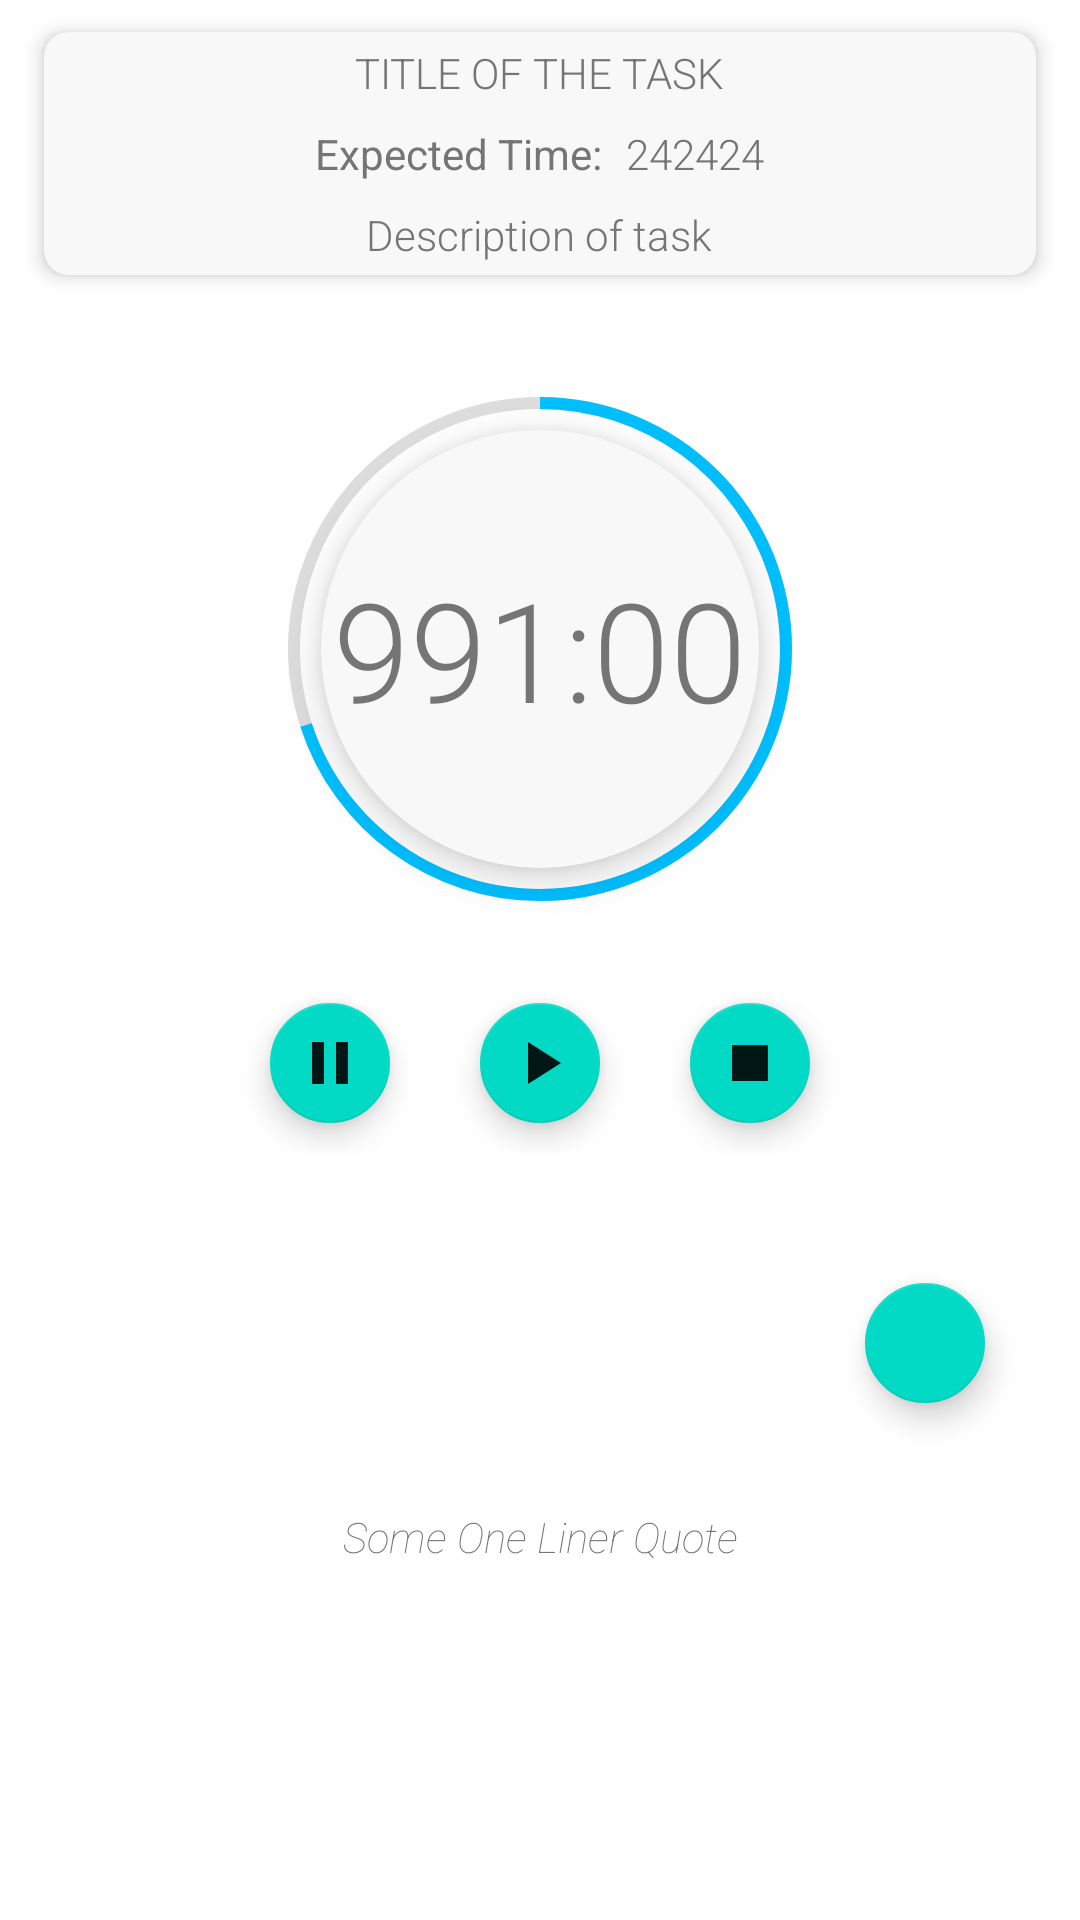

Where icons sit on this 1080 x 1920 app screen, as bbox=(x1, y1, x2, y2):
Pause Timer: bbox=(269, 1003, 390, 1130)
start timer: bbox=(480, 1003, 600, 1130)
Stop Timer: bbox=(690, 1003, 811, 1130)
